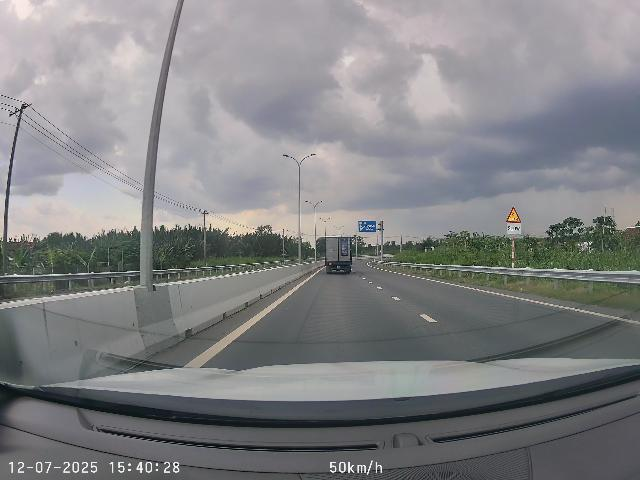245-di-cham: (506, 207, 522, 223)
